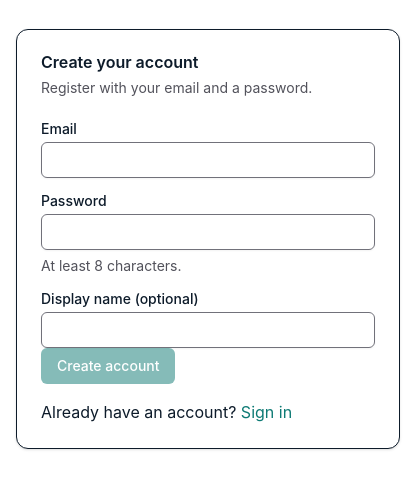
Scenario: a taken email shows a field-level message
The width and height of the screenshot is (417, 480).
In the field labelled "Email": (208, 160) x1=41 y1=142 x2=375 y2=178, type "a@b.com"
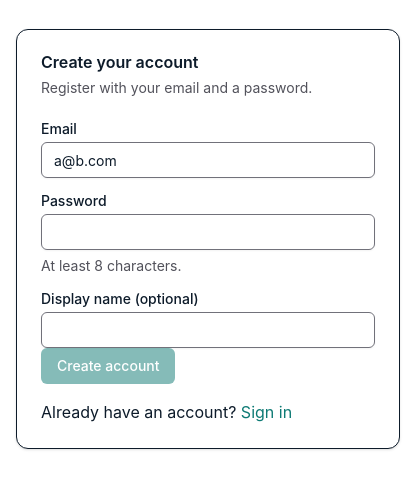
In the password field labelled "Password": (208, 232) x1=41 y1=214 x2=375 y2=250, type "super-secret"
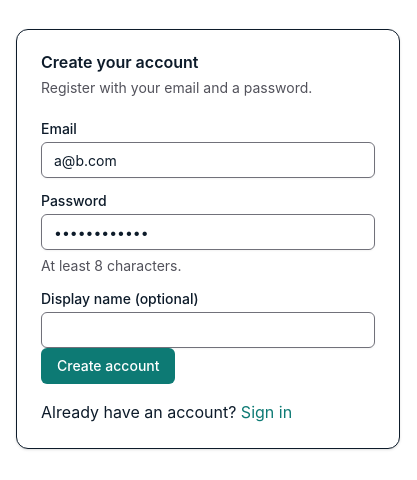
Click the button "Create account": (108, 366) x1=41 y1=348 x2=176 y2=384
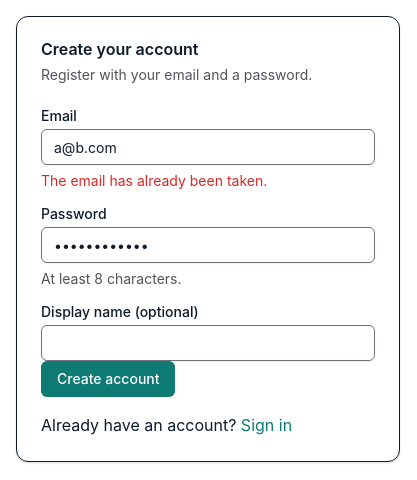
Check: the text "The email has already been taken." is shown, box x1=41 y1=172 x2=267 y2=189
